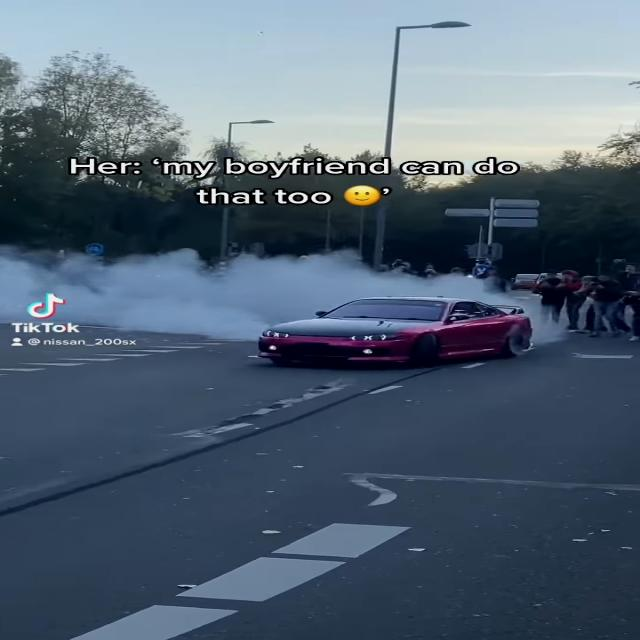car: (256, 294, 539, 366)
